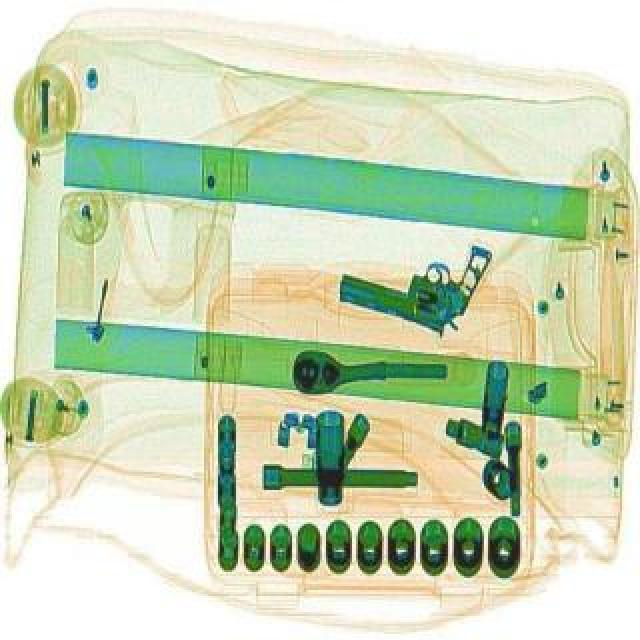gun: (328, 210, 496, 344)
